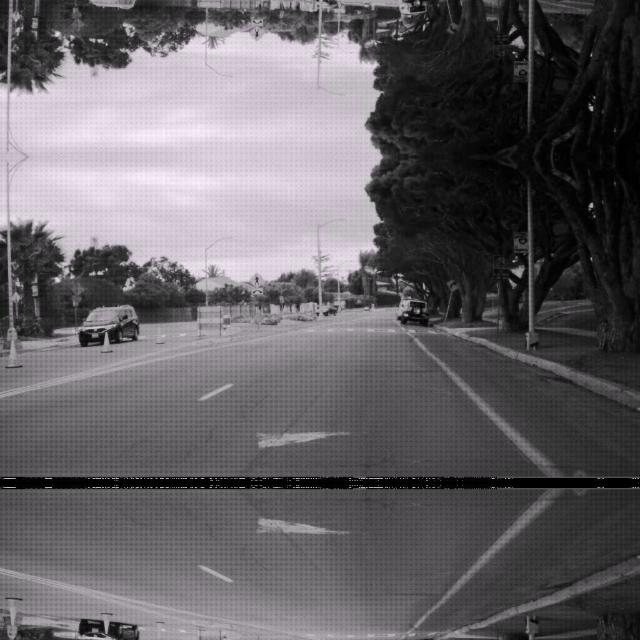pedestrianCrossing: (248, 270, 264, 288), (248, 24, 264, 41)
